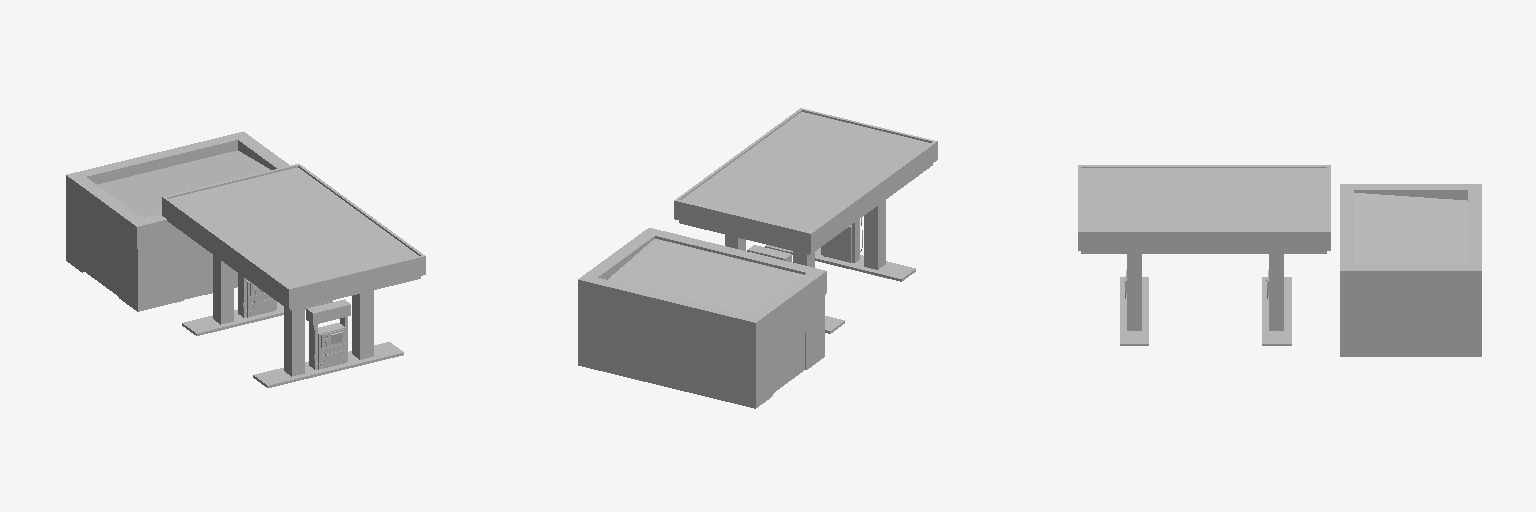
File: Building_Gas Station.obj
3 views of the same model, side by side, from view 1: azimuth 30°, elevation 25°; view 2: azimuth 150°, elevation 25°; view 3: azimuth 270°, elevation 25° (orthographic).
Size of the model in its own units: 1300 by 799 by 2560.